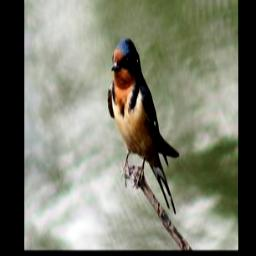Swallow: (105, 36, 177, 216)
